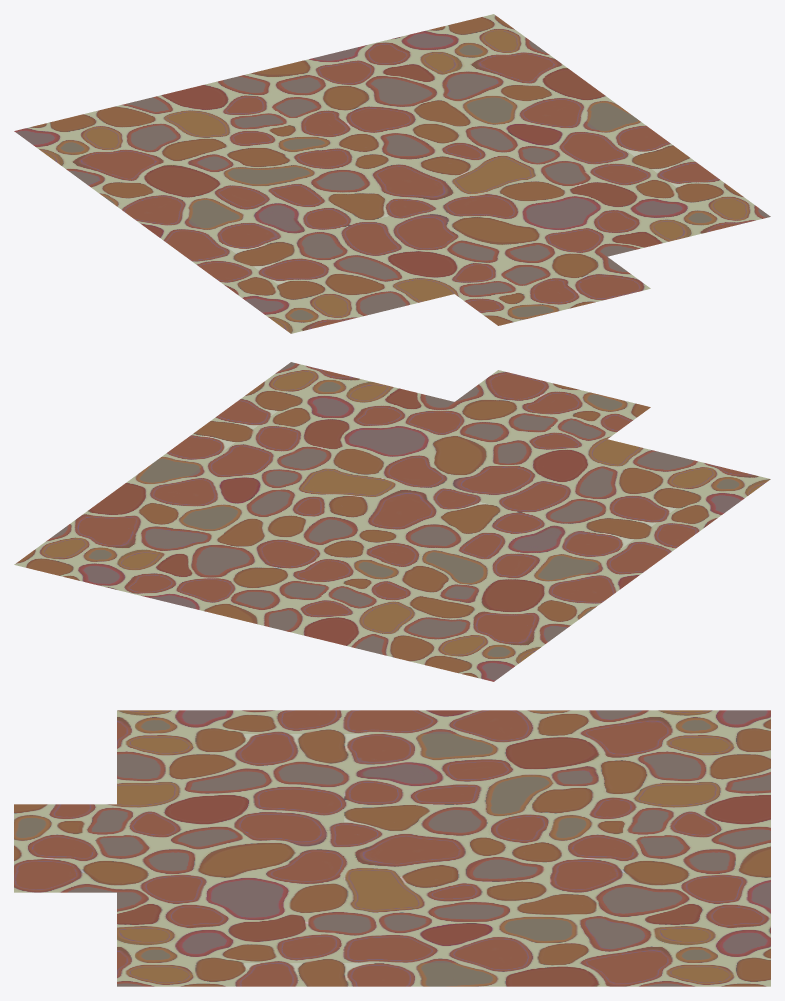
File: Floor01_d01.FBX
The picture shows the model from 3 angles, top to bottom: view 1: azimuth 30°, elevation 25°; view 2: azimuth 150°, elevation 25°; view 3: azimuth 270°, elevation 25°; orthographic projection. The views are drawn at different scales.
Parts seen in each view (by area): view 1: Floor01_d01; view 2: Floor01_d01; view 3: Floor01_d01.
Boxes of the visible parts, x1,y1,x2,y2 form: Floor01_d01: [14, 14, 770, 333]; Floor01_d01: [14, 362, 770, 681]; Floor01_d01: [14, 710, 770, 986].
Size of the model in its own units: 600 by 0.000218 by 695.
1 material, 1 textured.
